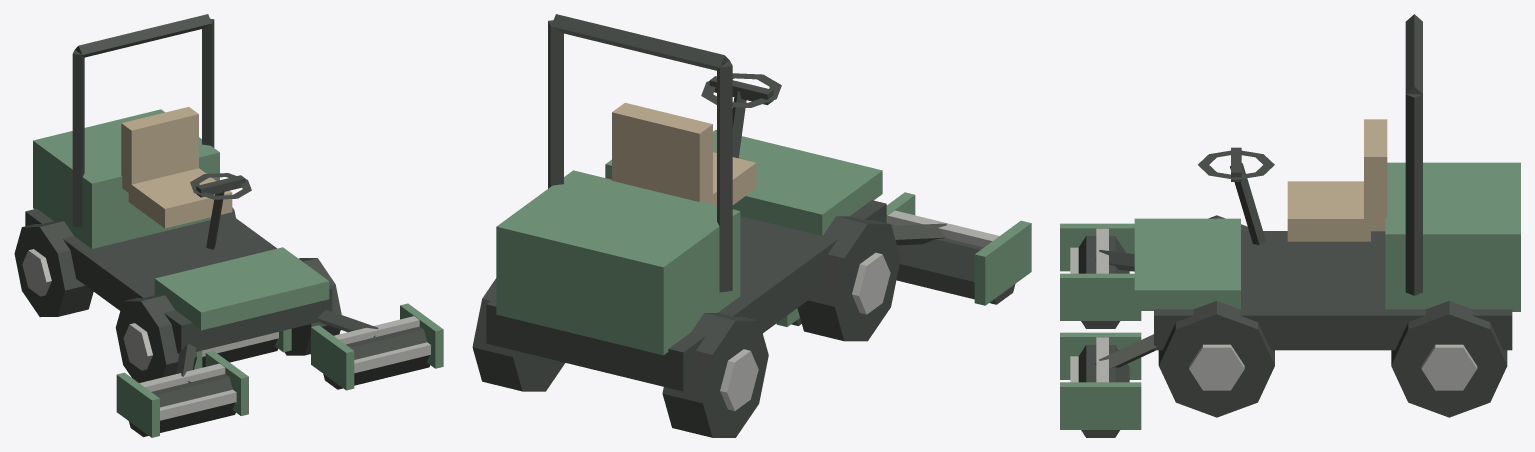
Rendered from green_mower_02.glb.
3 views of the same model, side by side, from view 1: azimuth 30°, elevation 25°; view 2: azimuth 150°, elevation 25°; view 3: azimuth 270°, elevation 25° (orthographic). The views are drawn at different scales.
Visible parts, largest first — view 1: Green_mower_02; view 2: Green_mower_02; view 3: Green_mower_02.
Part boxes in pixels (x1,y1,x2,y2): Green_mower_02: (14,14,443,437); Green_mower_02: (472,14,1031,437); Green_mower_02: (1060,14,1520,437).
Bounding box in the file's own units: 2.07 × 1.87 × 2.46.
